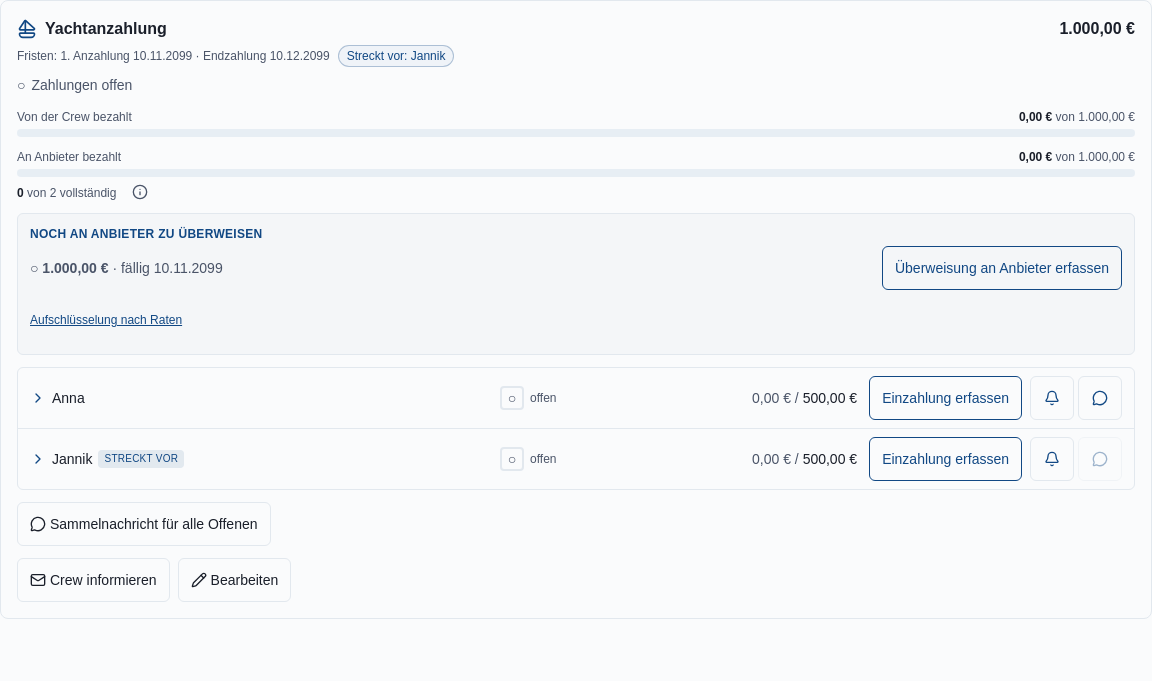
Anzahlungsplan: Personenliste › die vorstreckende Person kann ihre eigene Rate abhaken (Selbstverrechnung)
Click the button "Jannik Streckt vor" at (72, 459), box [30,437,488,481]
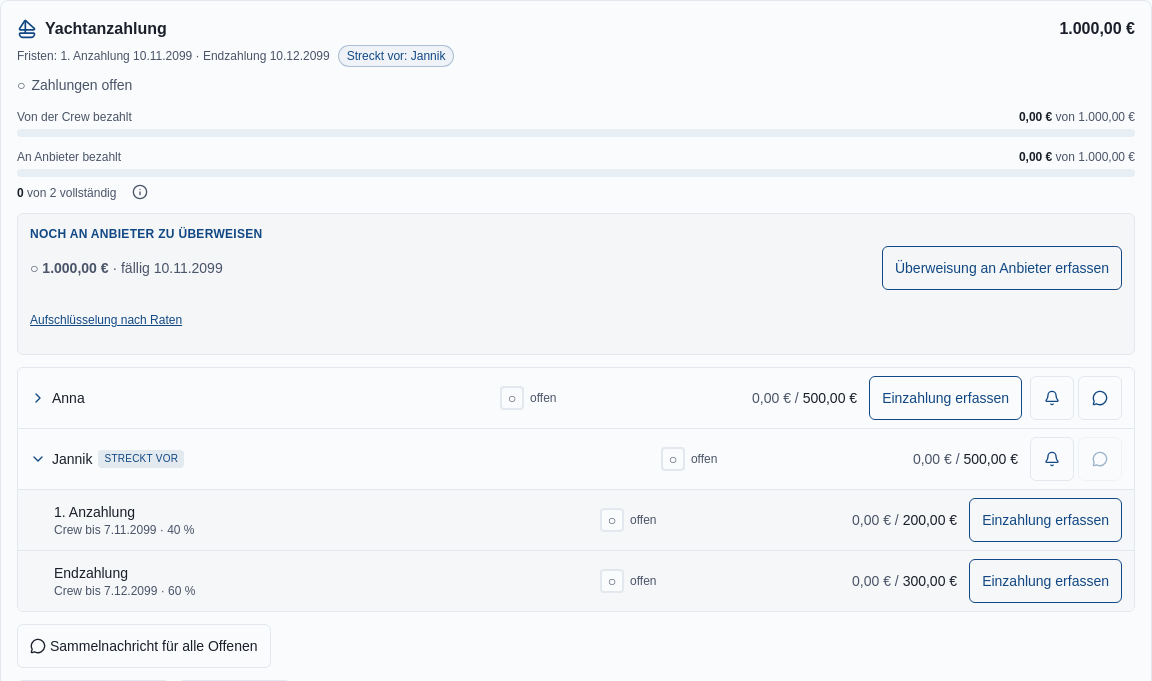
Click the button "Einzahlung erfassen" in the row of "Crew bis 7.11.2099 · 40 %" at (1046, 520), box [969,498,1122,542]
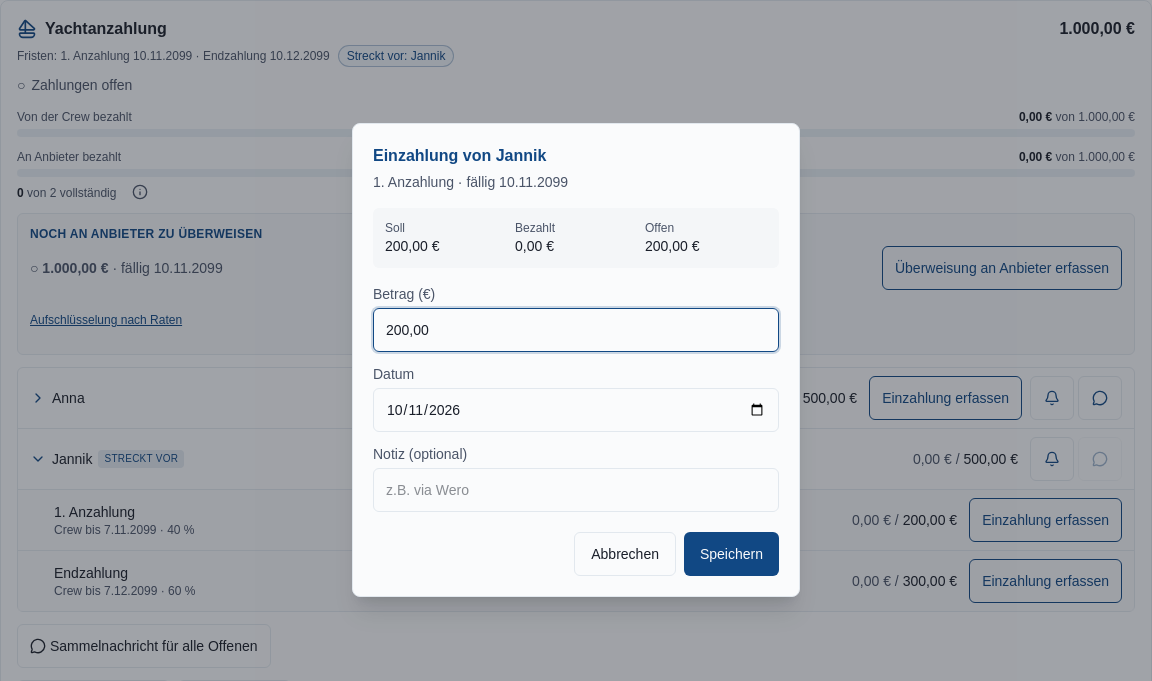
Expected: the text "Einzahlung von Jannik" is shown, [373,147,546,164]
